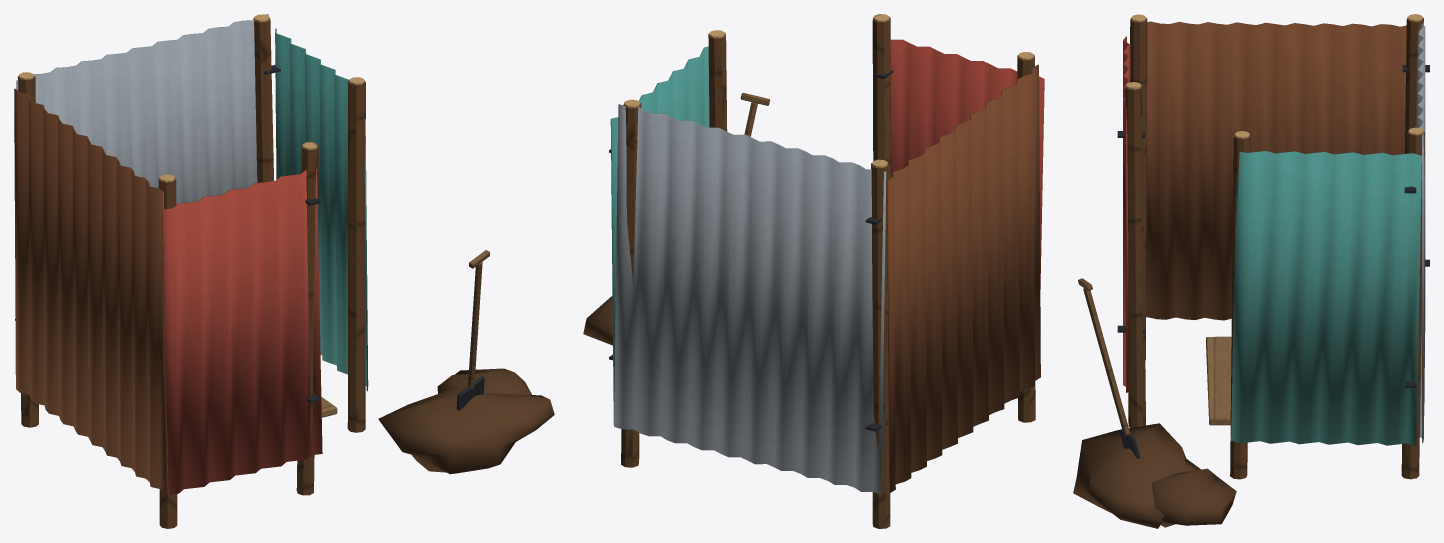
Rendered from latrine_screen.glb.
3 views of the same model, side by side, from view 1: azimuth 30°, elevation 25°; view 2: azimuth 150°, elevation 25°; view 3: azimuth 270°, elevation 25° (orthographic). The views are drawn at different scales.
Visible parts, largest first — view 1: latrine_screen; view 2: latrine_screen; view 3: latrine_screen.
Part boxes in pixels (<box>): latrine_screen: <box>14,14,554,528</box>; latrine_screen: <box>583,14,1044,528</box>; latrine_screen: <box>1073,14,1429,528</box>.
Bounding box in the file's own units: 2.33 × 1.96 × 1.83.
17 materials, 17 textured.
